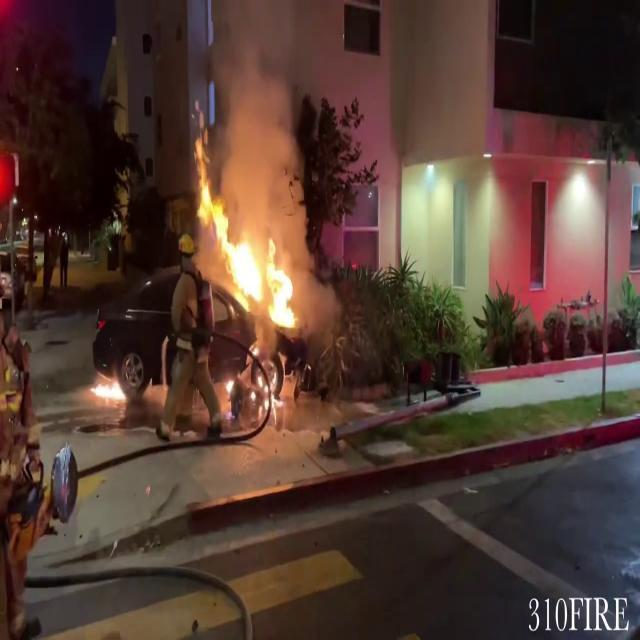Fire: (189, 136, 309, 332), (87, 368, 129, 408)
